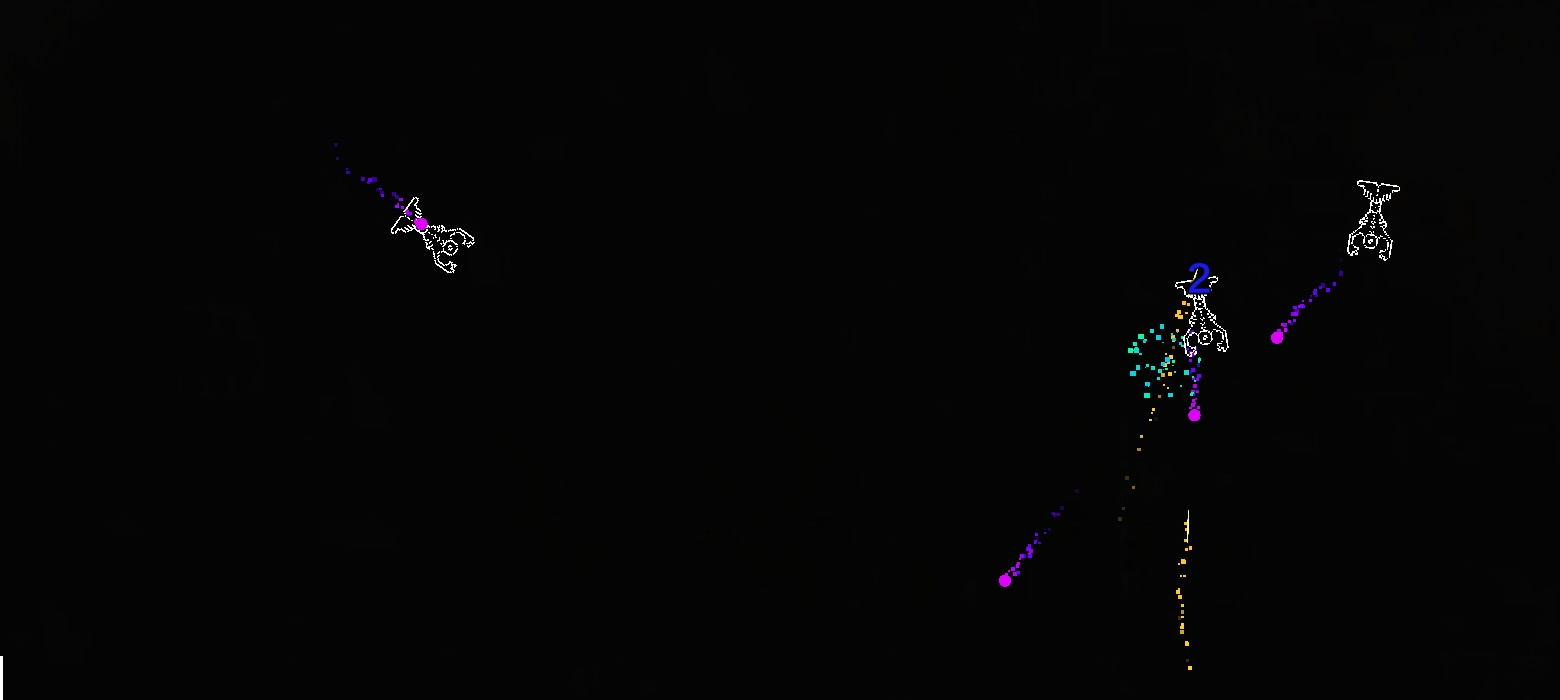enemy: (390, 196, 475, 274), (1174, 275, 1230, 358), (1347, 179, 1401, 262)
